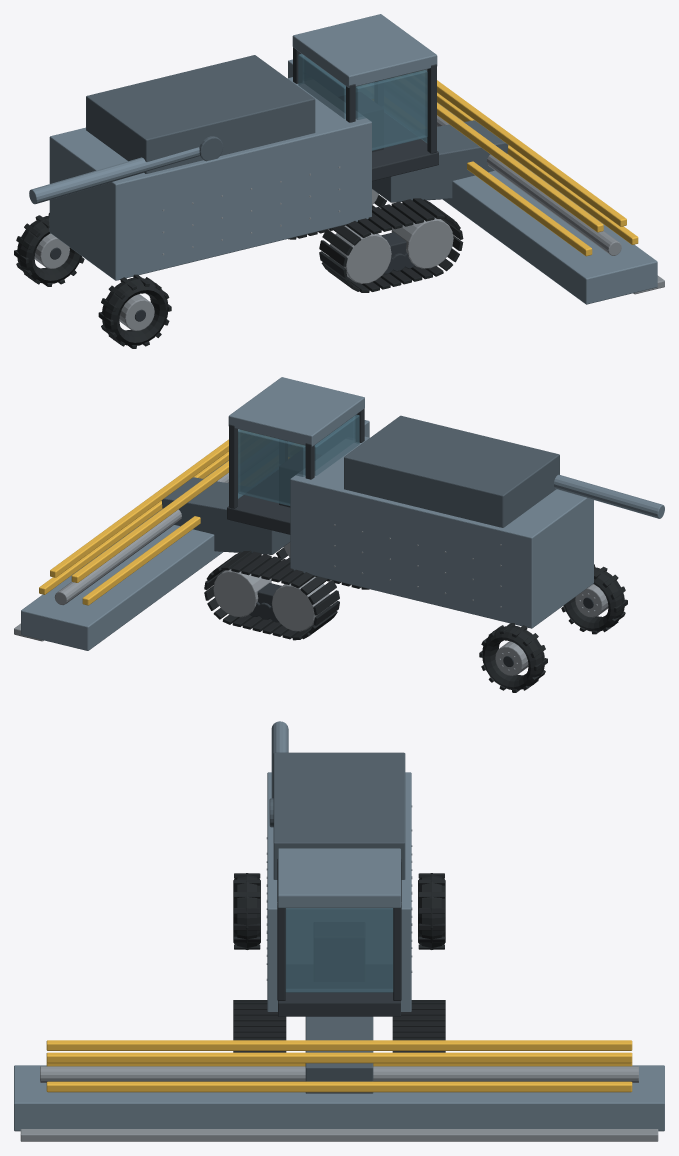
Rendered from fendt-ideal-10t-structural-study.glb.
The picture shows the model from 3 angles, top to bottom: view 1: azimuth 30°, elevation 25°; view 2: azimuth 150°, elevation 25°; view 3: azimuth 270°, elevation 25°; orthographic projection. The views are drawn at different scales.
Parts seen in each view (by area): view 1: Separator_Main_House, Grain_Tank, Header_Backbone, Cab_Roof, Feederhouse, Cab_R_Glass, Reel_Bat_2, Cab_Floor, Unloader_Auger, Rear_R_Tire, Reel_Bat_3, Track_R_Front_Wheel (+10 smaller); view 2: Separator_Main_House, Grain_Tank, Header_Backbone, Cab_Roof, Feederhouse, Cab_L_Glass, Cab_Floor, Reel_Bat_2, Rear_L_Tire, Reel_Bat_3, Track_L_Front_Wheel, Reel_Axle (+10 smaller); view 3: Header_Backbone, Grain_Tank, Cab_Front_Glass, Reel_Axle, Cutterbar, Separator_Main_House, Cab_Roof, Reel_Bat_1, Reel_Bat_2, Reel_Bat_3, Cab_Floor, Feederhouse (+7 smaller).
Boxes of the visible parts, left/top/right/bottom form: Separator_Main_House: left=49, top=77, right=371, bottom=280; Grain_Tank: left=86, top=55, right=315, bottom=173; Header_Backbone: left=288, top=59, right=657, bottom=304; Cab_Roof: left=292, top=14, right=437, bottom=87; Feederhouse: left=372, top=120, right=508, bottom=202; Cab_R_Glass: left=355, top=70, right=427, bottom=150; Reel_Bat_2: left=437, top=80, right=626, bottom=226; Cab_Floor: left=372, top=113, right=438, bottom=181; Unloader_Auger: left=29, top=147, right=199, bottom=204; Rear_R_Tire: left=102, top=277, right=168, bottom=345; Reel_Bat_3: left=437, top=103, right=603, bottom=232; Track_R_Front_Wheel: left=391, top=217, right=453, bottom=268; Separator_Main_House: left=290, top=436, right=593, bottom=628; Grain_Tank: left=344, top=415, right=559, bottom=527; Header_Backbone: left=21, top=420, right=369, bottom=650; Cab_Roof: left=228, top=377, right=364, bottom=446; Feederhouse: left=161, top=477, right=290, bottom=554; Cab_L_Glass: left=238, top=429, right=305, bottom=505; Cab_Floor: left=227, top=470, right=290, bottom=534; Reel_Bat_2: left=50, top=439, right=228, bottom=577; Rear_L_Tire: left=482, top=625, right=544, bottom=689; Reel_Bat_3: left=71, top=461, right=228, bottom=582; Track_L_Front_Wheel: left=213, top=569, right=271, bottom=617; Reel_Axle: left=54, top=472, right=228, bottom=605; Header_Backbone: left=14, top=1065, right=664, bottom=1131; Grain_Tank: left=273, top=752, right=405, bottom=879; Cab_Front_Glass: left=285, top=908, right=393, bottom=992; Reel_Axle: left=40, top=1066, right=638, bottom=1082; Cutterbar: left=20, top=1129, right=658, bottom=1141; Separator_Main_House: left=267, top=772, right=411, bottom=1011; Cab_Roof: left=278, top=848, right=400, bottom=907; Reel_Bat_1: left=46, top=1081, right=632, bottom=1092; Reel_Bat_2: left=46, top=1052, right=632, bottom=1063; Reel_Bat_3: left=46, top=1040, right=632, bottom=1050; Cab_Floor: left=278, top=965, right=400, bottom=1016; Feederhouse: left=305, top=1016, right=373, bottom=1093.
Bounding box in the file's own units: 10.63 × 3.99 × 10.7.
